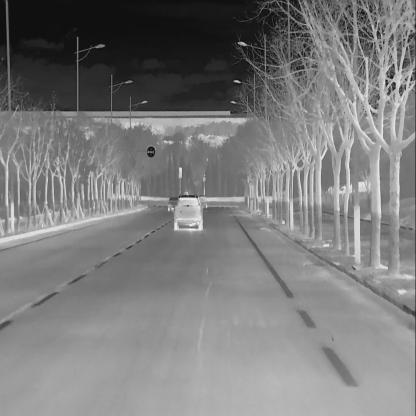car: (172, 194, 203, 230), (166, 195, 179, 211), (195, 194, 208, 210)
